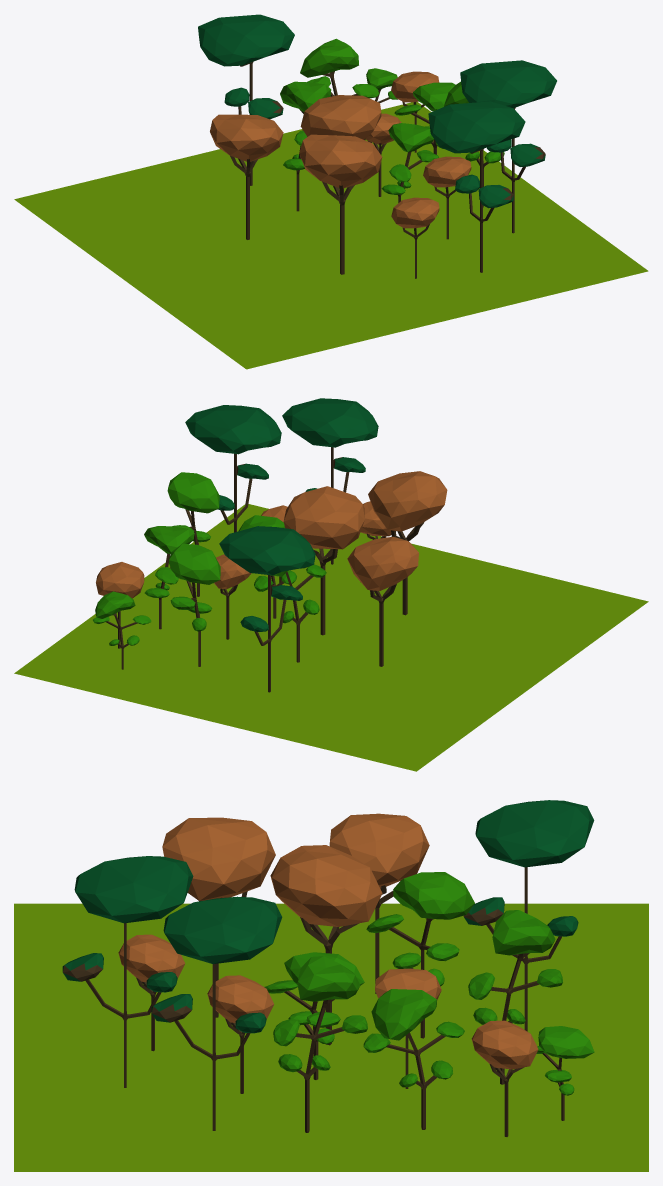
File: plane_with_trees.fbx
3 views of the same model, one above another, from view 1: azimuth 30°, elevation 25°; view 2: azimuth 150°, elevation 25°; view 3: azimuth 270°, elevation 25° (orthographic). The views are drawn at different scales.
Parts seen in each view (by area): view 1: Plane, Tree 2.005, Tree 2.004, Tree 2, Tree 1.023, Tree 1, Tree 1.015, Tree 3.009, Tree 3.017, Tree 3.016, Tree 1.018, Tree 1.002 (+5 smaller); view 2: Plane, Tree 2.004, Tree 2, Tree 1.015, Tree 2.005, Tree 1.023, Tree 1, Tree 3.009, Tree 3, Tree 3.002, Tree 1.010, Tree 3.018 (+4 smaller); view 3: Plane, Tree 2, Tree 2.005, Tree 2.004, Tree 1.015, Tree 1.023, Tree 1, Tree 3.016, Tree 3, Tree 3.002, Tree 3.009, Tree 1.010 (+5 smaller).
Boxes of the visible parts, x1,y1,x2,y2 form: Plane: [14, 102, 648, 369]; Tree 2.005: [428, 101, 525, 272]; Tree 2.004: [198, 14, 294, 185]; Tree 2: [460, 60, 556, 233]; Tree 1.023: [299, 134, 382, 274]; Tree 1: [210, 114, 283, 239]; Tree 1.015: [300, 95, 381, 194]; Tree 3.009: [300, 38, 379, 98]; Tree 3.017: [381, 123, 438, 202]; Tree 3.016: [280, 81, 331, 211]; Tree 1.018: [391, 197, 439, 278]; Tree 1.002: [423, 156, 471, 239]; Plane: [14, 504, 648, 771]; Tree 2.004: [219, 526, 315, 692]; Tree 2: [185, 405, 281, 532]; Tree 1.015: [283, 486, 364, 635]; Tree 2.005: [282, 398, 378, 564]; Tree 1.023: [368, 471, 447, 615]; Tree 1: [347, 536, 418, 666]; Tree 3.009: [169, 543, 220, 666]; Tree 3: [167, 472, 219, 596]; Tree 3.002: [144, 526, 194, 629]; Tree 1.010: [96, 562, 144, 648]; Tree 3.018: [93, 591, 151, 669]; Plane: [14, 903, 648, 1171]; Tree 2: [151, 896, 282, 1130]; Tree 2.005: [62, 856, 193, 1087]; Tree 2.004: [463, 800, 594, 1031]; Tree 1.015: [270, 845, 382, 1045]; Tree 1.023: [162, 817, 275, 1017]; Tree 1: [329, 813, 429, 993]; Tree 3.016: [366, 872, 474, 1038]; Tree 3: [273, 956, 367, 1132]; Tree 3.002: [363, 989, 464, 1129]; Tree 3.009: [468, 910, 562, 1084]; Tree 1.010: [471, 1020, 538, 1136].
Bounding box in the file's own units: 1730 × 677 × 1730.
